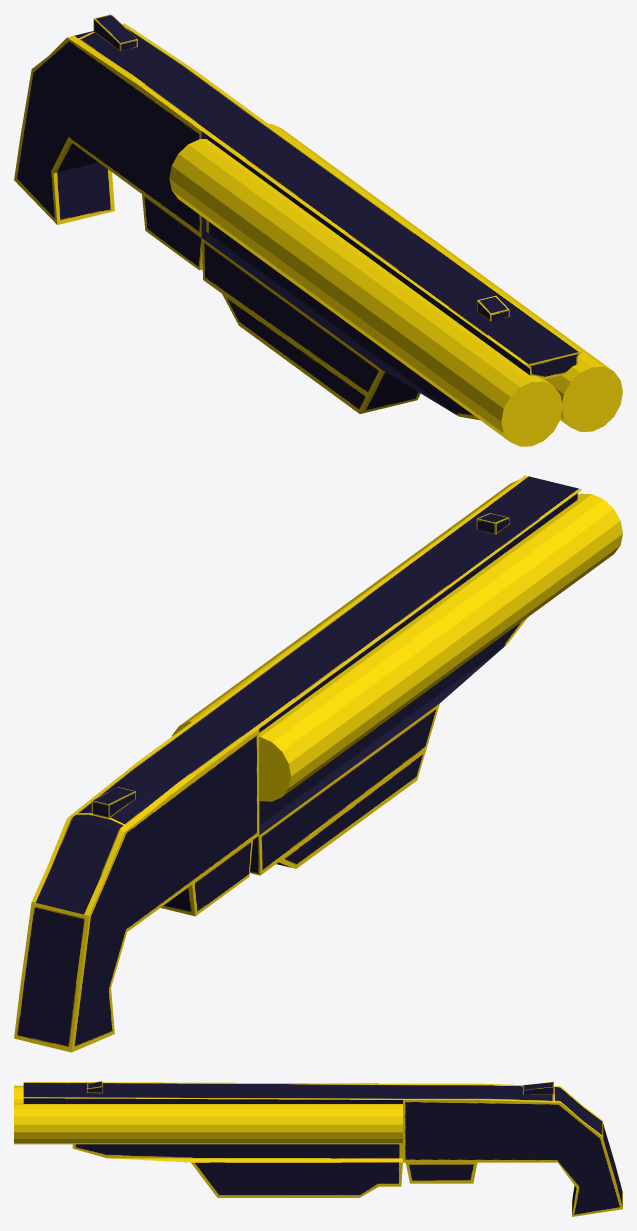
File: shotGun_scaled.fbx
3 views of the same model, one above another, from view 1: azimuth 30°, elevation 25°; view 2: azimuth 150°, elevation 25°; view 3: azimuth 270°, elevation 25° (orthographic). The views are drawn at different scales.
Parts seen in each view (by area): view 1: shotGunFrame, barel_Two, barelOne; view 2: shotGunFrame, barel_Two, barelOne; view 3: shotGunFrame, barelOne.
Part boxes in pixels (x1,y1,x2,y2): shotGunFrame: (14, 14, 582, 420); barel_Two: (169, 139, 561, 446); barelOne: (269, 124, 622, 431); shotGunFrame: (14, 475, 581, 1052); barel_Two: (259, 493, 622, 801); barelOne: (172, 480, 517, 736); shotGunFrame: (23, 1081, 622, 1216); barelOne: (14, 1103, 402, 1144).
Bounding box in the file's own units: 11.29 × 18.92 × 83.57.
